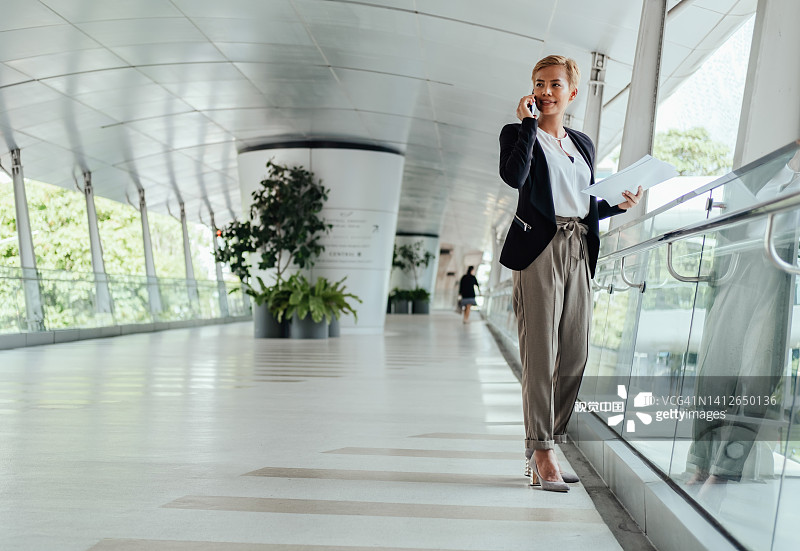calling: (507, 86, 546, 127)
no-phone: (590, 155, 671, 217)
